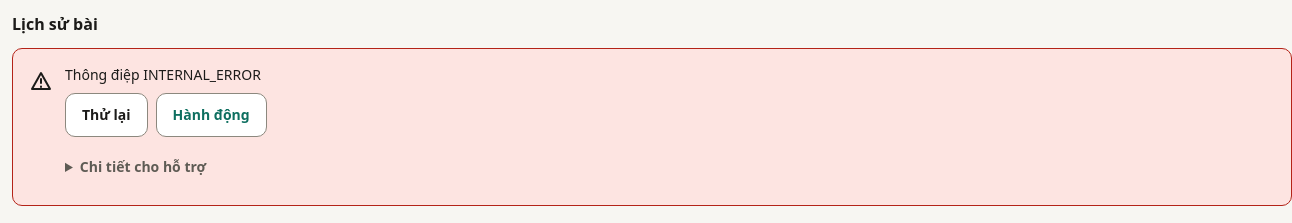
HistoryTab › lỗi máy chủ: có nút "Thử lại", bấm là gọi lại và hiện danh sách
Click the button "Thử lại". click: (106, 115)
box: [65,93,148,137]
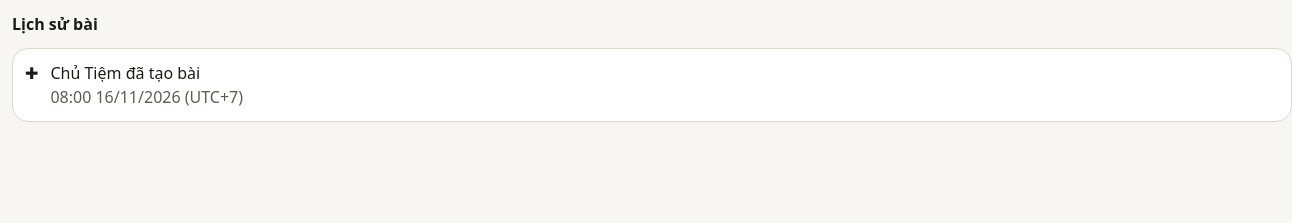
Expected: the text "Chủ Tiệm đã tạo bài" is shown, [50,62,200,84]
